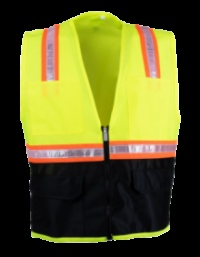safety vest: (24, 14, 175, 240)
